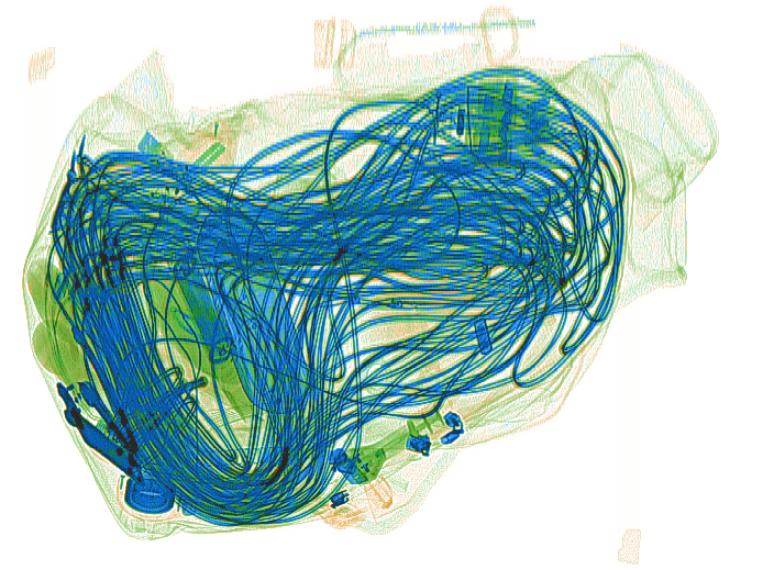battery: (169, 258, 233, 354)
